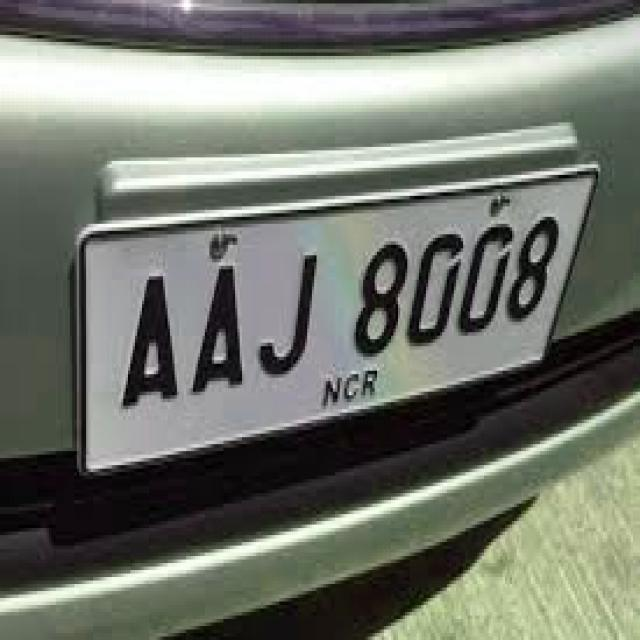Text: (70, 122, 600, 479)
